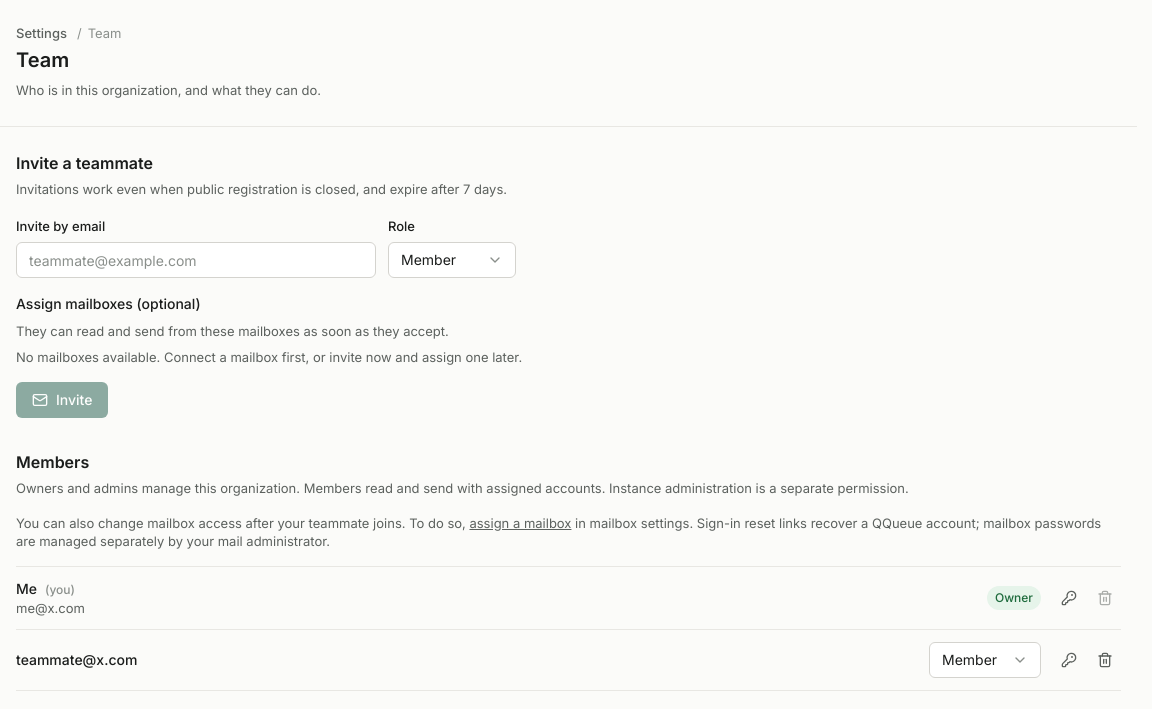
it: TeamSettings › creates an invitation and reveals the accept link
This screenshot has width=1152, height=709.
Check: the text "teammate@x.com" is shown, box [16, 651, 137, 668]
In the field labelled "Invite by email": {"x": 196, "y": 260} [16, 242, 376, 278], type "friend@x.com"
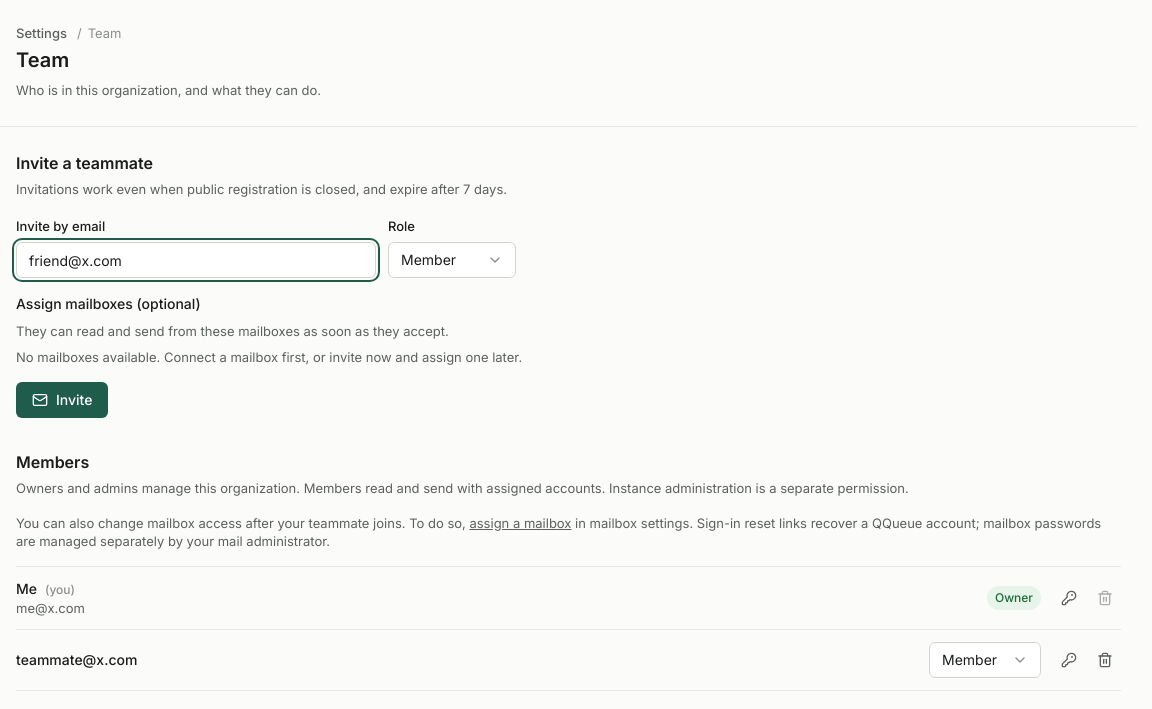
Click the button "Invite": {"x": 62, "y": 400} [16, 382, 108, 418]
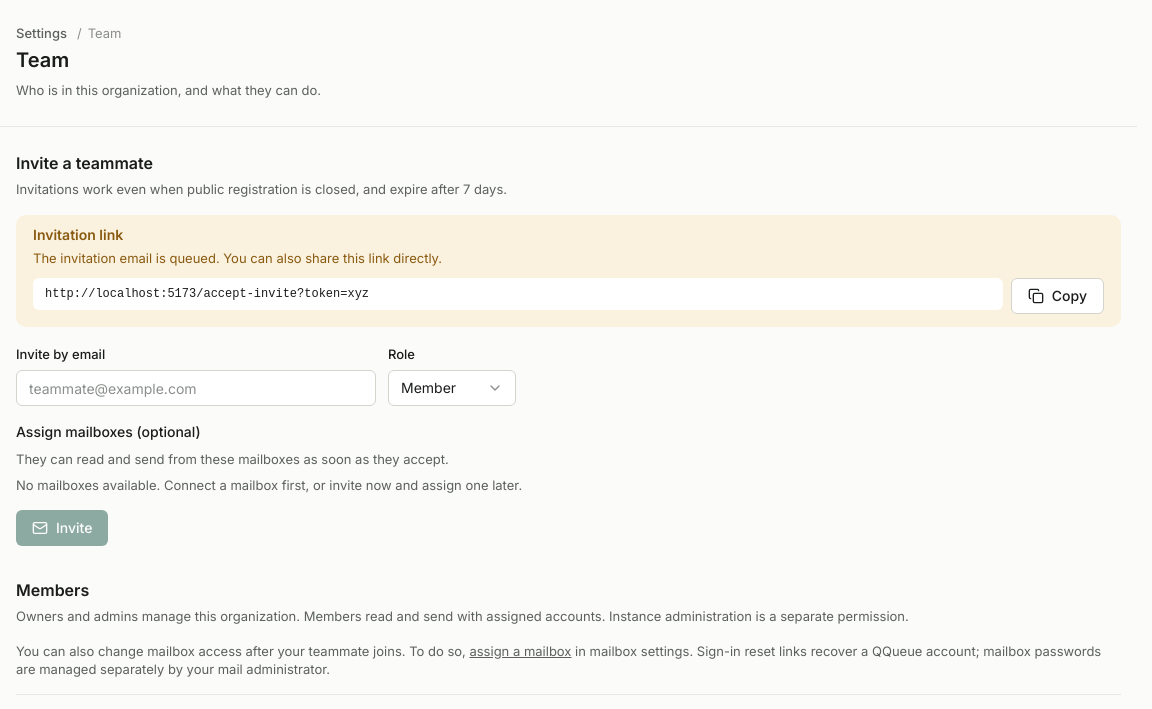
Check: the text "http://localhost:5173/accept-invite?token=xyz" is shown, box [33, 278, 1003, 310]
